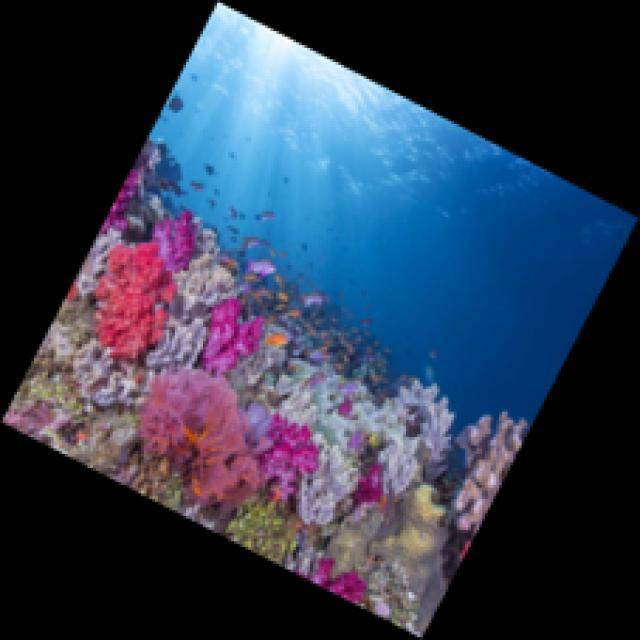Bleached: (250, 310, 458, 519), (147, 228, 238, 381), (66, 334, 149, 414)
Healthy: (264, 413, 321, 505), (200, 301, 268, 375), (302, 555, 368, 609), (149, 210, 197, 276), (97, 167, 141, 238), (350, 462, 386, 508), (339, 400, 355, 418)
